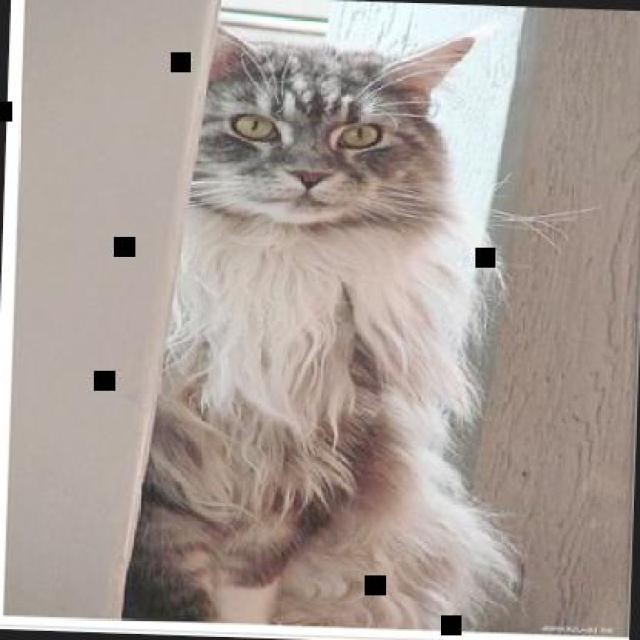cat: (136, 21, 507, 630)
